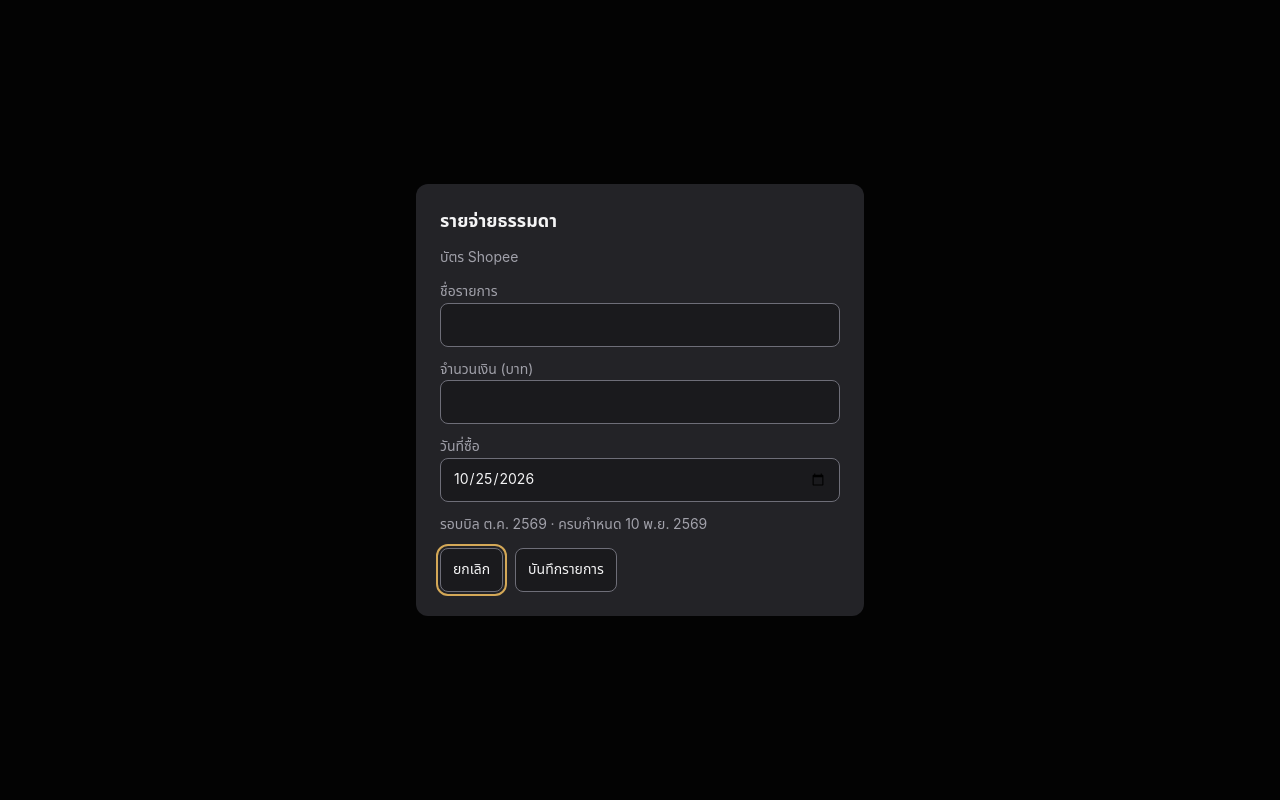
Test: real 400 body {error, errors:{amount}} through jsonFetch focuses the amount field (§5.3.2)
Type "abc" into the field labelled "ชื่อรายการ" at {"x": 640, "y": 325}, box [440,303,840,347]
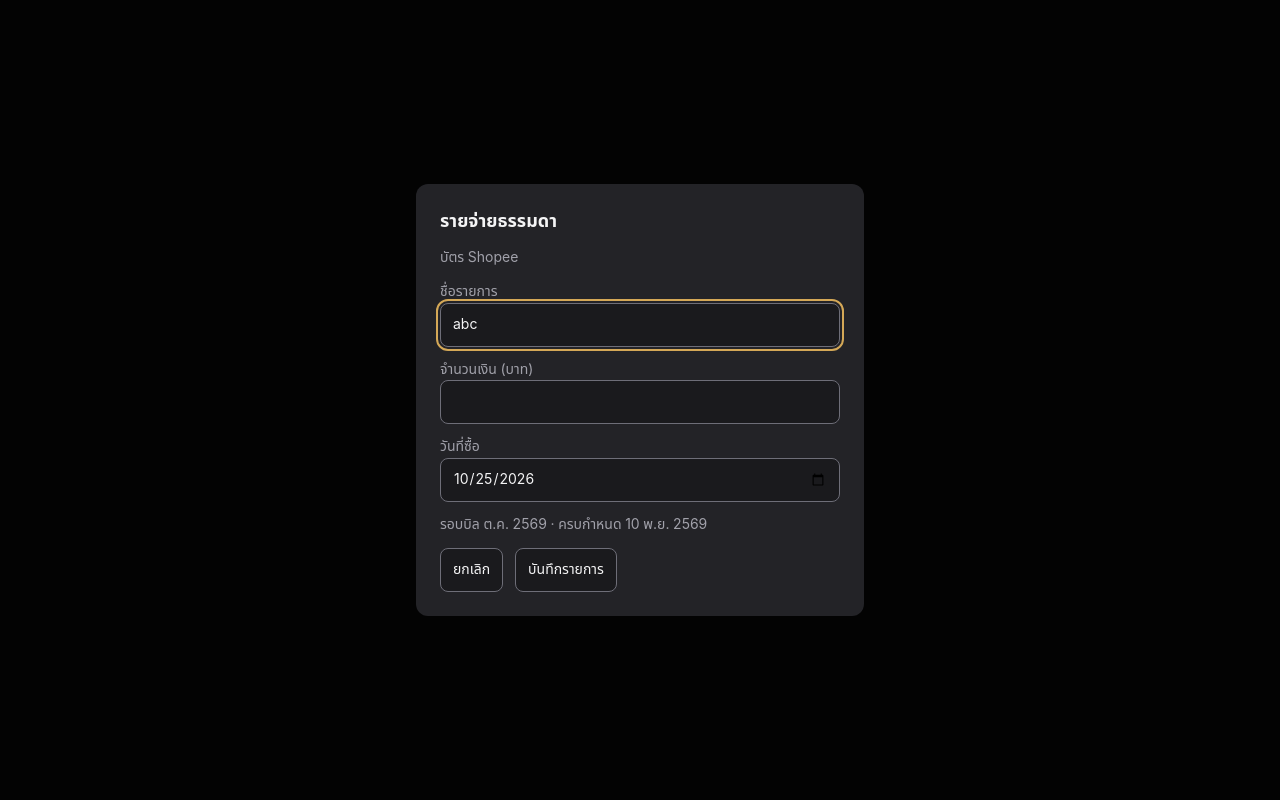
Type "zz" into the field labelled "จำนวนเงิน (บาท)" at {"x": 640, "y": 402}, box [440,380,840,424]
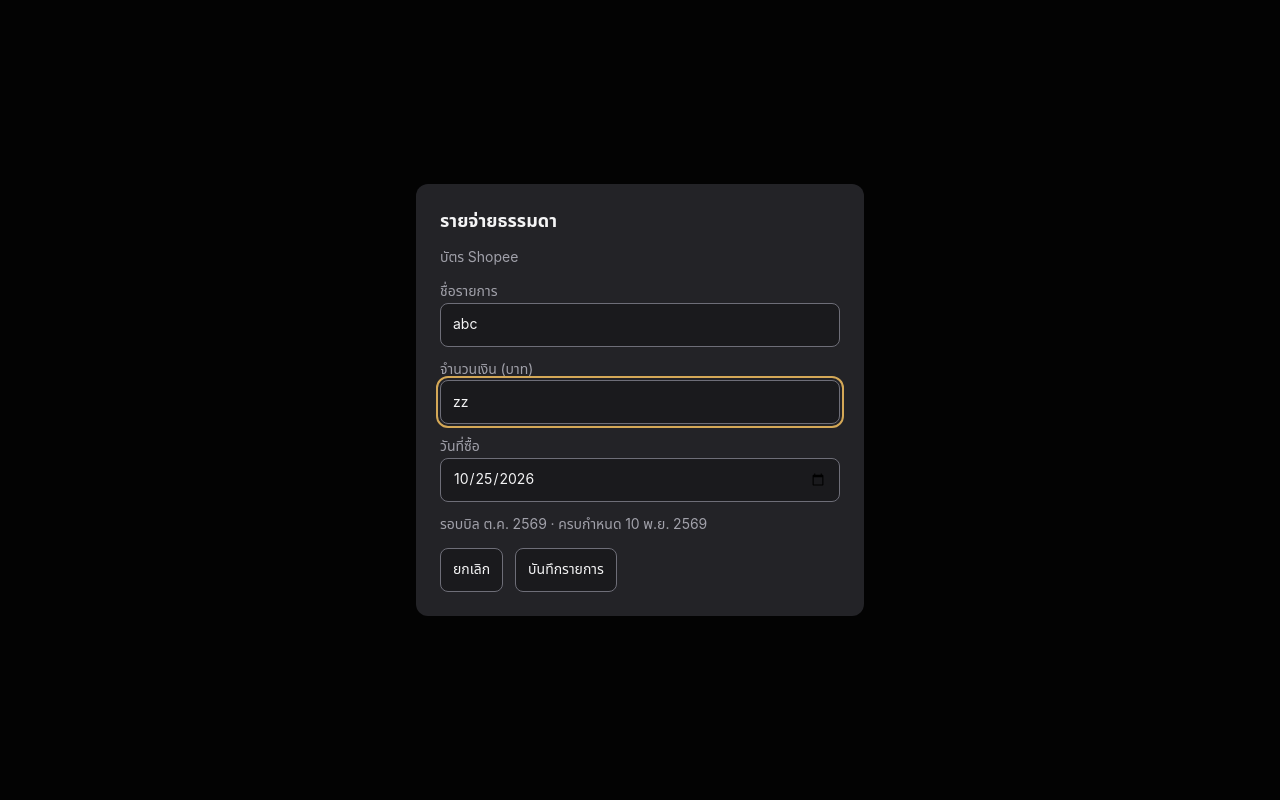
Click the button "บันทึกรายการ" at {"x": 566, "y": 570}, box [515,548,617,592]
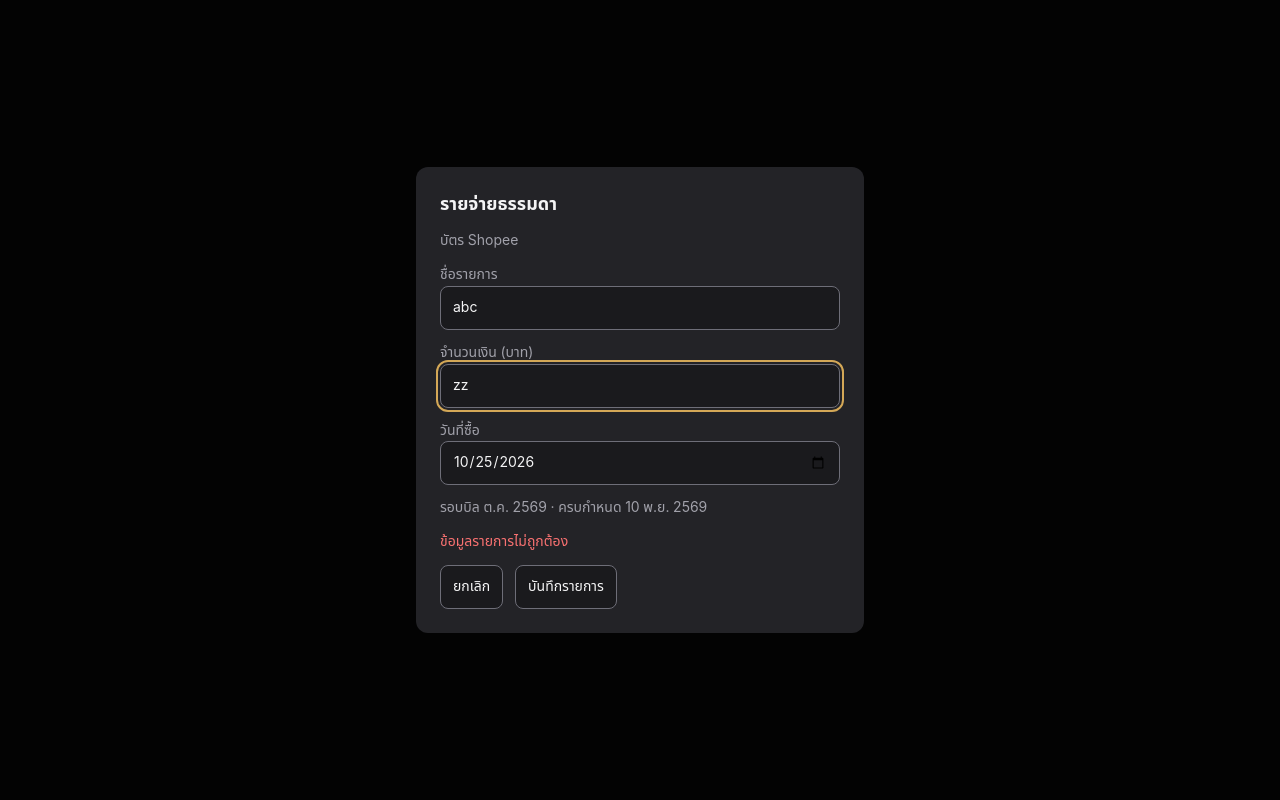
Expected: the message "ข้อมูลรายการไม่ถูกต้อง" is shown, [440,531,568,552]
